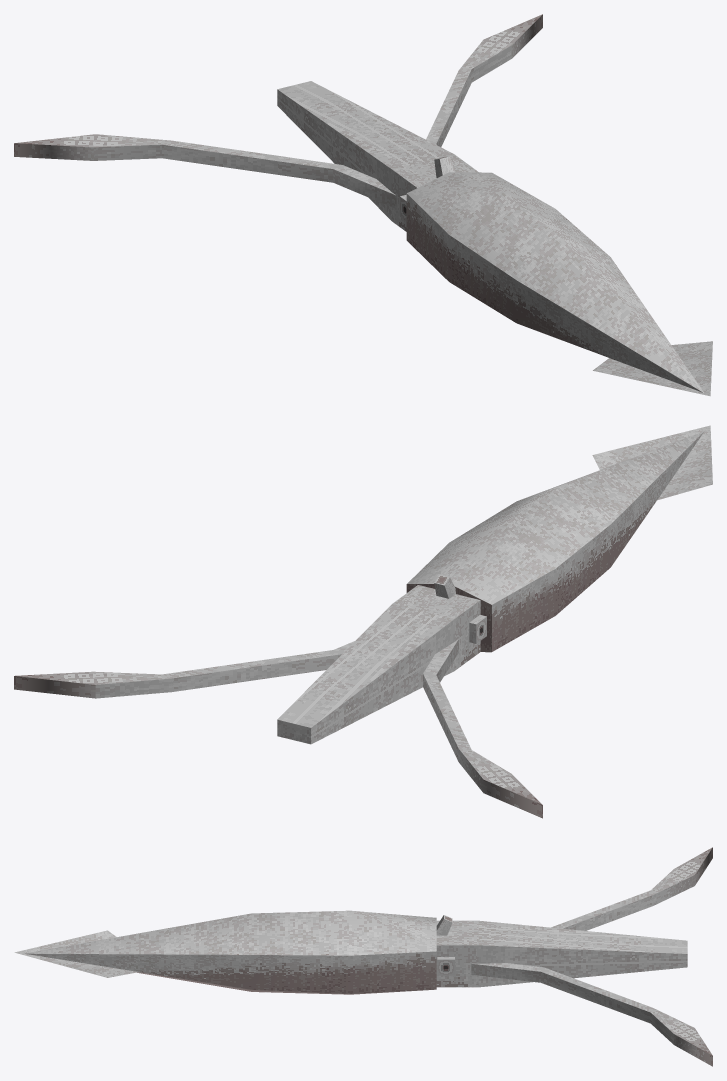
File: 0596_Giant_Squid.glb
3 renders of one model, top to bottom at view 1: azimuth 30°, elevation 25°; view 2: azimuth 150°, elevation 25°; view 3: azimuth 270°, elevation 25°, orthographic. The views are drawn at different scales.
Visible parts, largest first — view 1: part_0; view 2: part_0; view 3: part_0.
Boxes of the visible parts, bbox=[...] form: part_0: bbox=[14, 14, 712, 396]; part_0: bbox=[14, 425, 712, 818]; part_0: bbox=[14, 847, 712, 1066].
Size of the model in its own units: 15.68 by 2.94 by 22.19.
1 material, 1 textured.
